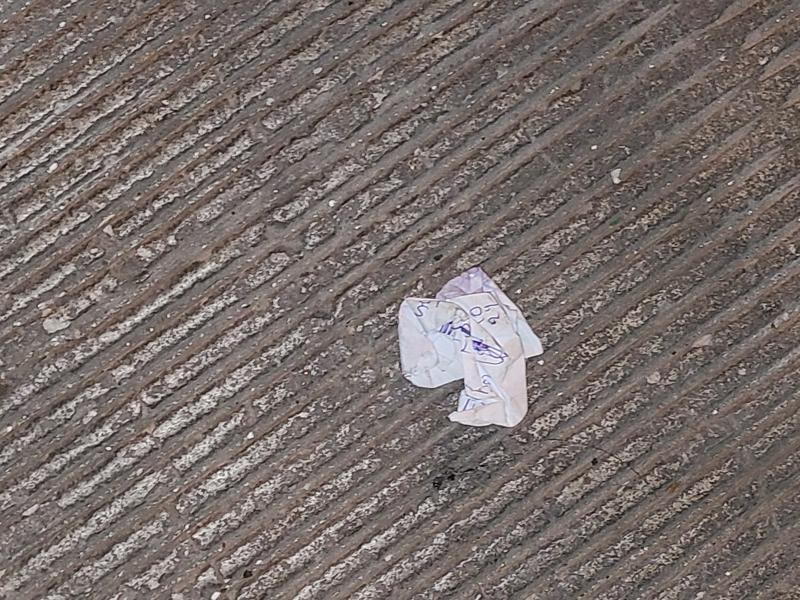papel: (398, 269, 545, 428)
